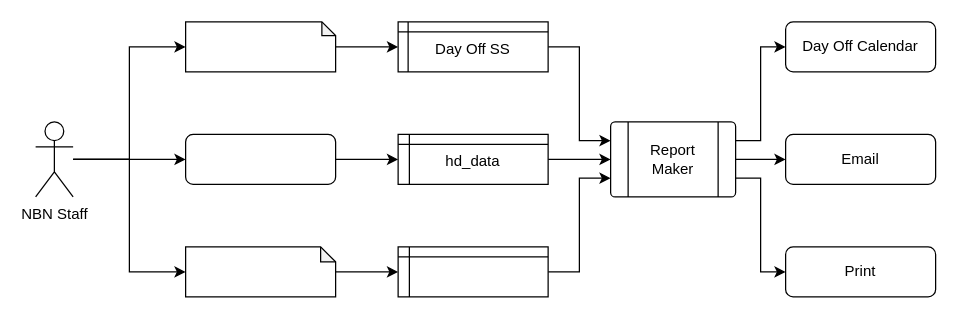
The diagram is 958 pixels wide and 319 high, and some of its shapes have lost their labels. The shapes that lost their labels are listed below. From the top down, each one's centre as x and y in pixels, then its label:
At [260,46]: "Day Off Form".
At [260,158]: "NBN Help Desk".
At [260,271]: "Expense Form".
At [472,271]: "Expense SS".
